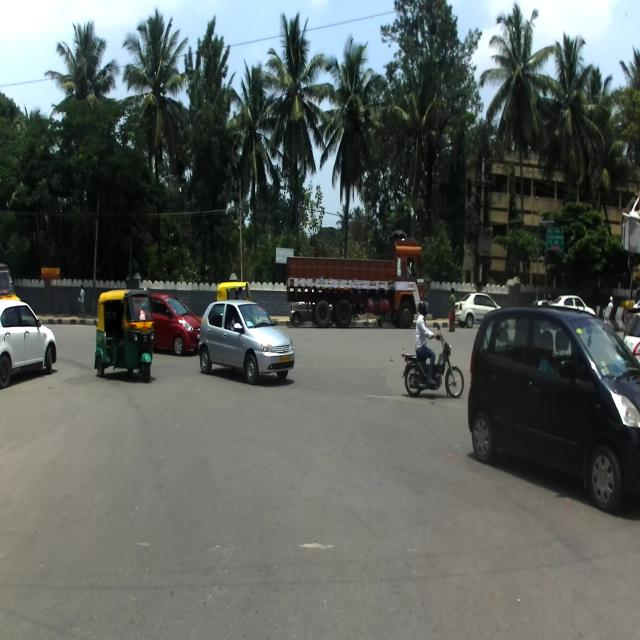auto ahead at: (95, 285, 158, 390)
car ahead at: (470, 301, 640, 512), (198, 293, 297, 386), (0, 295, 58, 391)
motorcycle ahead at: (400, 331, 466, 408)
